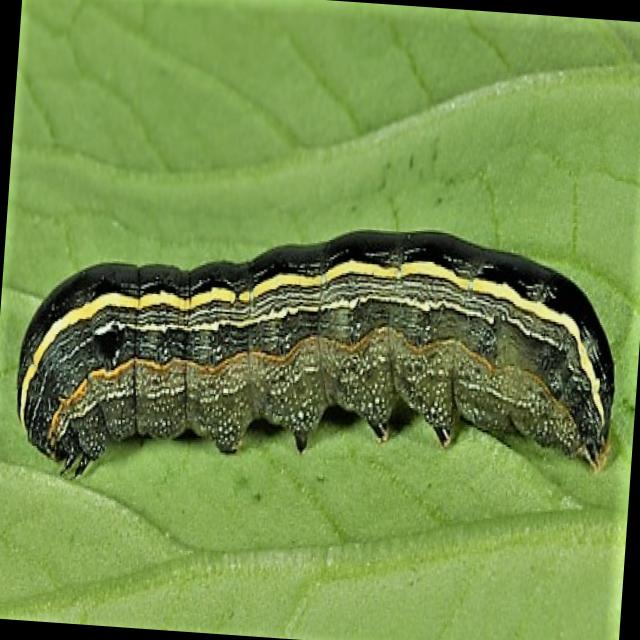Armyworm: (1, 139, 639, 590)
